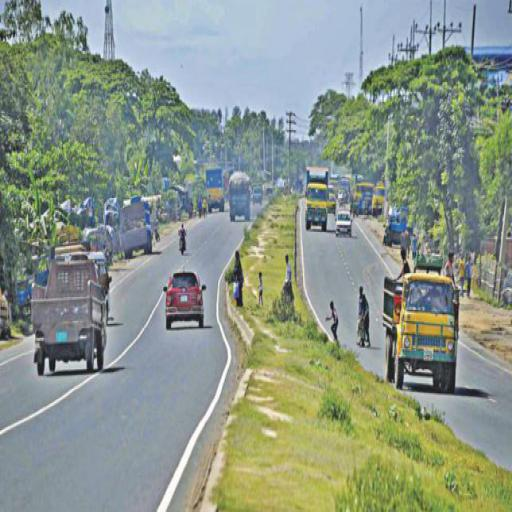car: (164, 269, 204, 327), (335, 210, 352, 239)
motorbike: (179, 232, 186, 254)
pickup: (30, 260, 107, 376)
truck: (383, 271, 460, 390), (119, 198, 152, 260), (305, 165, 329, 229), (229, 169, 252, 222), (354, 182, 385, 217), (206, 166, 225, 212)
